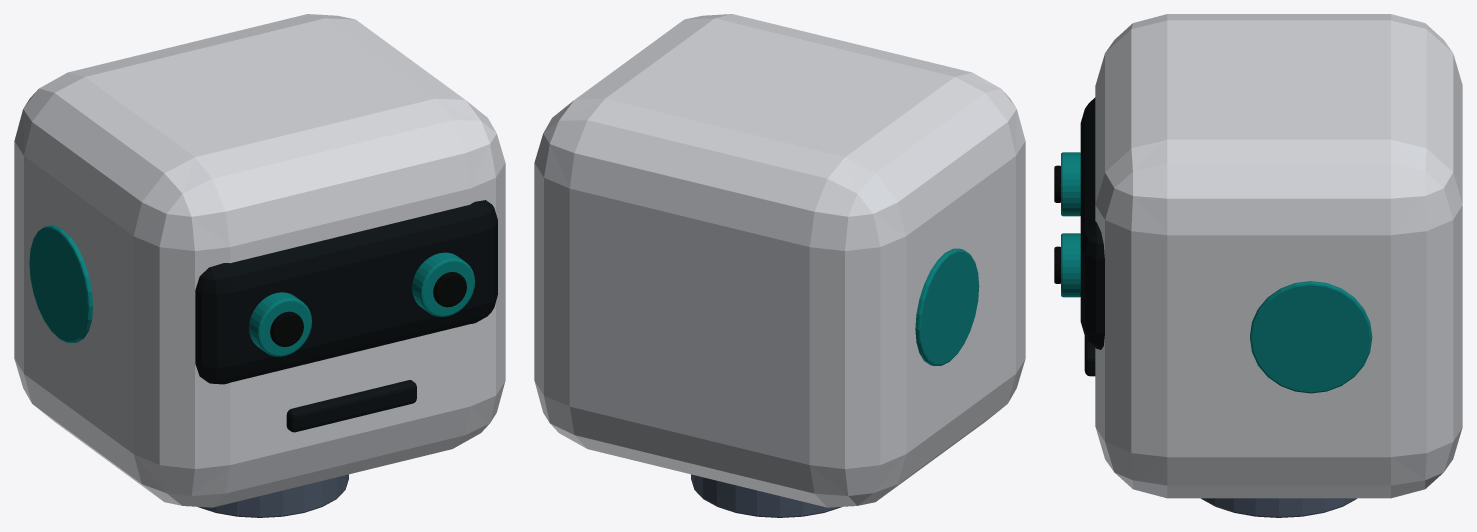
Rendered from modular_head_shell.obj.
3 renders of one model, left to right at view 1: azimuth 30°, elevation 25°; view 2: azimuth 150°, elevation 25°; view 3: azimuth 270°, elevation 25°, orthographic.
Visible parts, largest first — view 1: modular_head_shell; view 2: modular_head_shell; view 3: modular_head_shell.
Part boxes in pixels (left/top/right/bottom): modular_head_shell: left=14, top=14, right=505, bottom=517; modular_head_shell: left=534, top=14, right=1025, bottom=517; modular_head_shell: left=1054, top=14, right=1462, bottom=517.
Bounding box in the file's own units: 0.164 × 0.166 × 0.1535.
